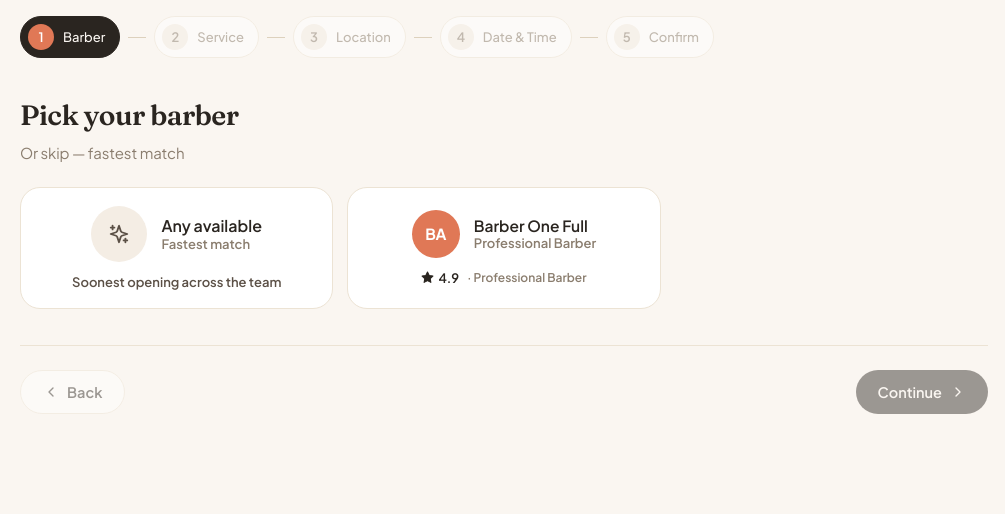
Test: BookingFlow Component › displays available time slots after selecting a date
Note: Navigate to date/time step
Click the text "Barber One Full": (535, 226) [474,216,596,235]
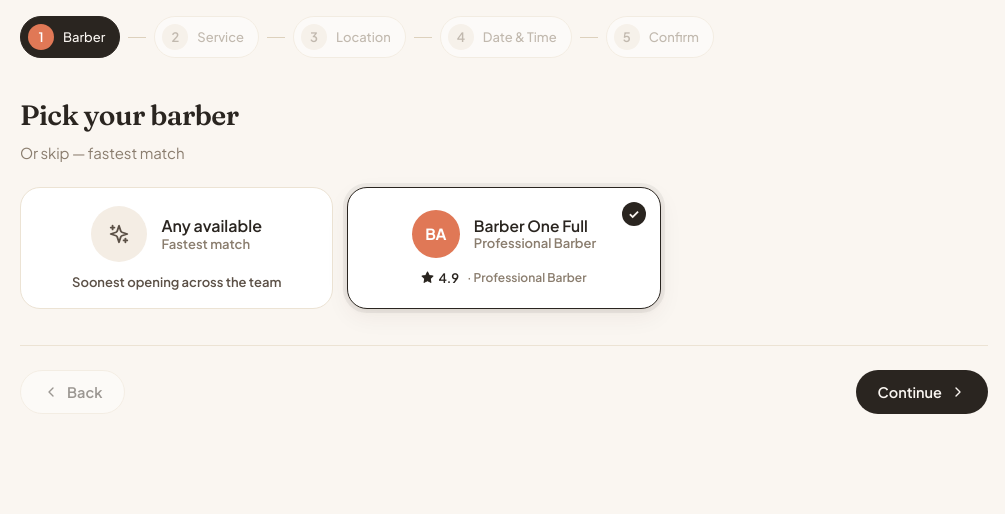
Click the button "Continue": (922, 392) [856,370,988,414]
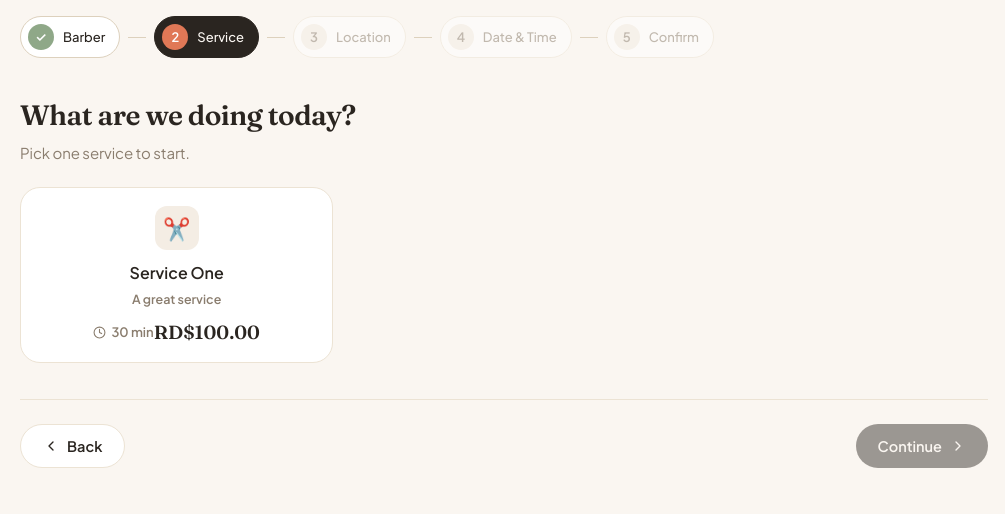
Check: the text "Service One" is shown
Click the text "Service One": (177, 272) [130,262,224,282]
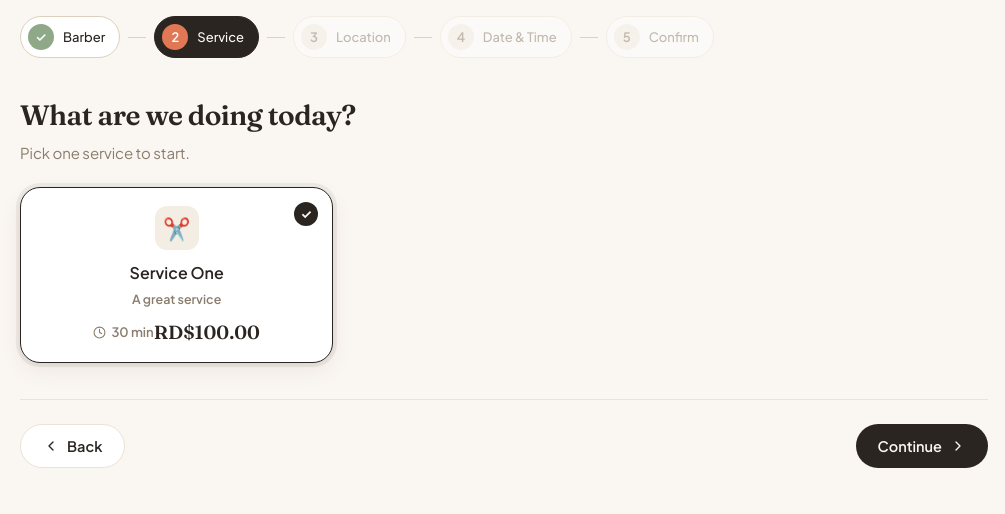
Click the button "Continue": (922, 446) [856,424,988,468]
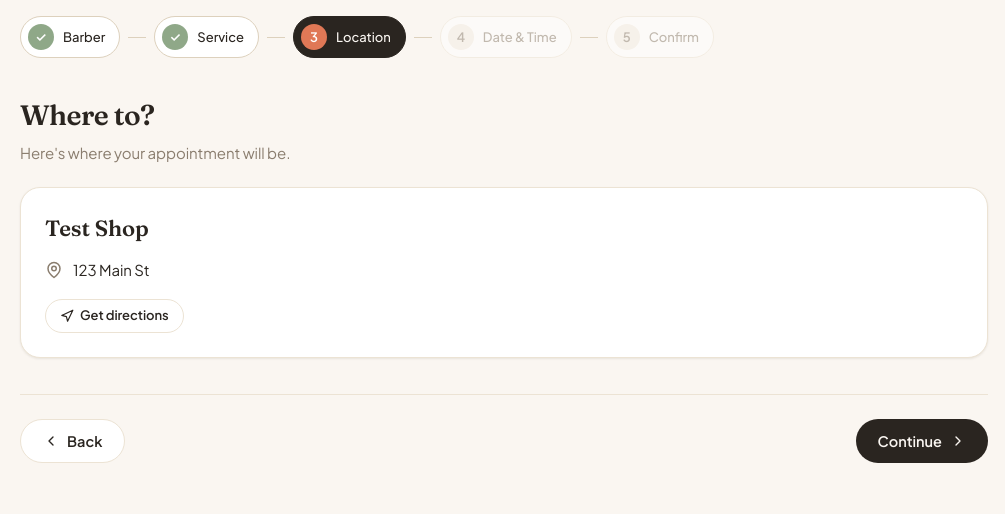
Check: the heading "Where to?" is shown, box [20,98,154,132]
Note: Wait for Location step, then advance past it
Click the button "Continue": (922, 441) [856,419,988,463]
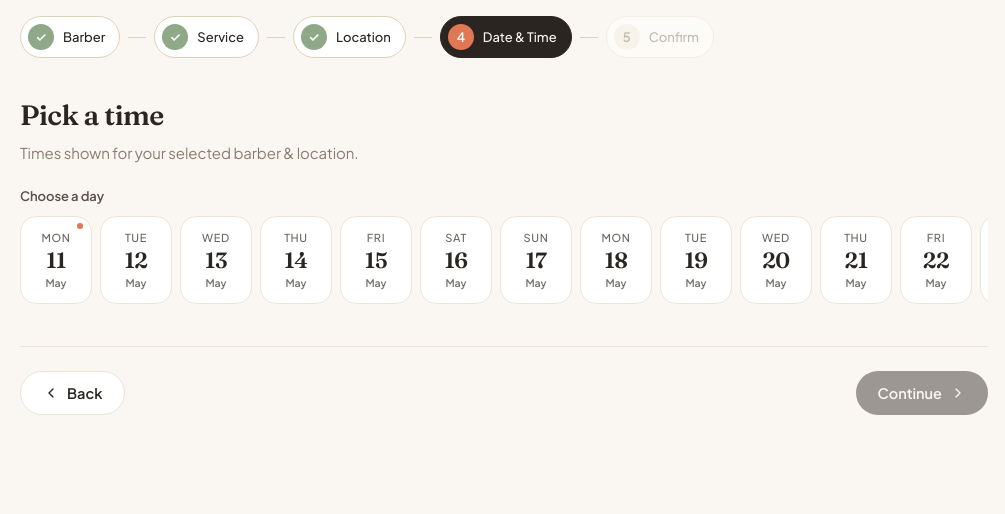
Check: the element with test id "day-strip" is shown, box [20,216,988,310]
Note: Select today's date chip (first button in the day strip)
Click the button "Mon 11 May": (56, 260) [20,216,92,304]
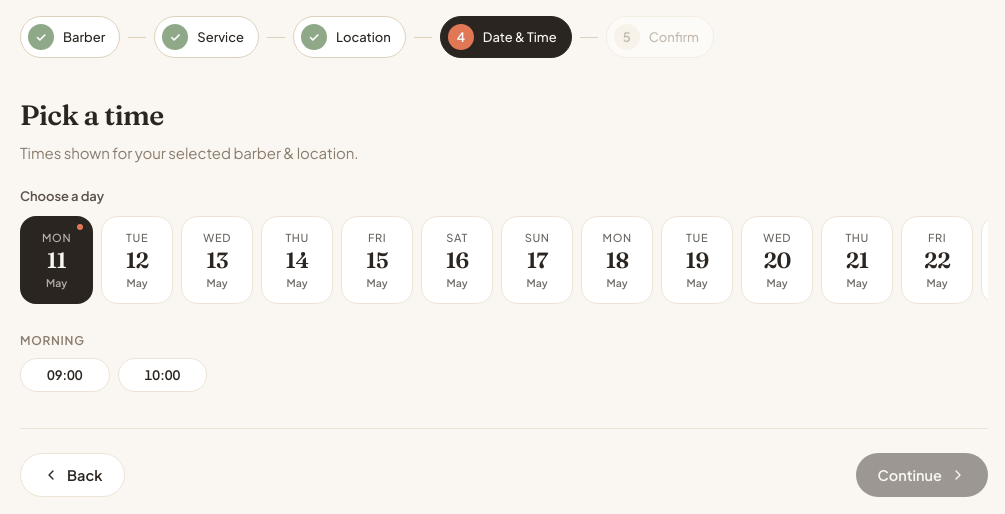
Check: the button "09:00" is shown, box [20,358,110,392]
Check: the button "10:00" is shown, box [118,358,207,392]
